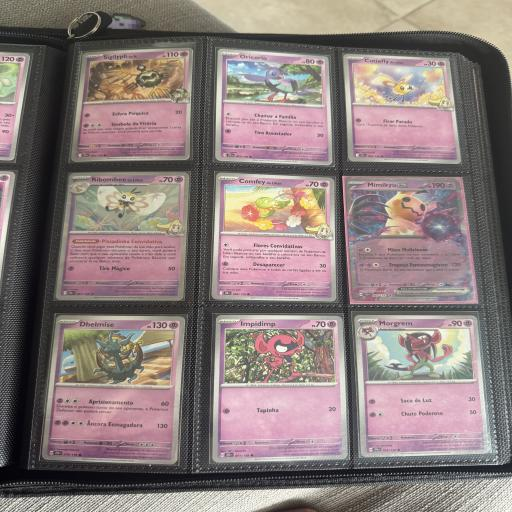card: (41, 311, 185, 464), (354, 308, 490, 460), (212, 314, 348, 463), (345, 170, 475, 307), (55, 171, 190, 301), (212, 172, 339, 302), (71, 46, 193, 163), (214, 49, 337, 165), (340, 54, 464, 164)
